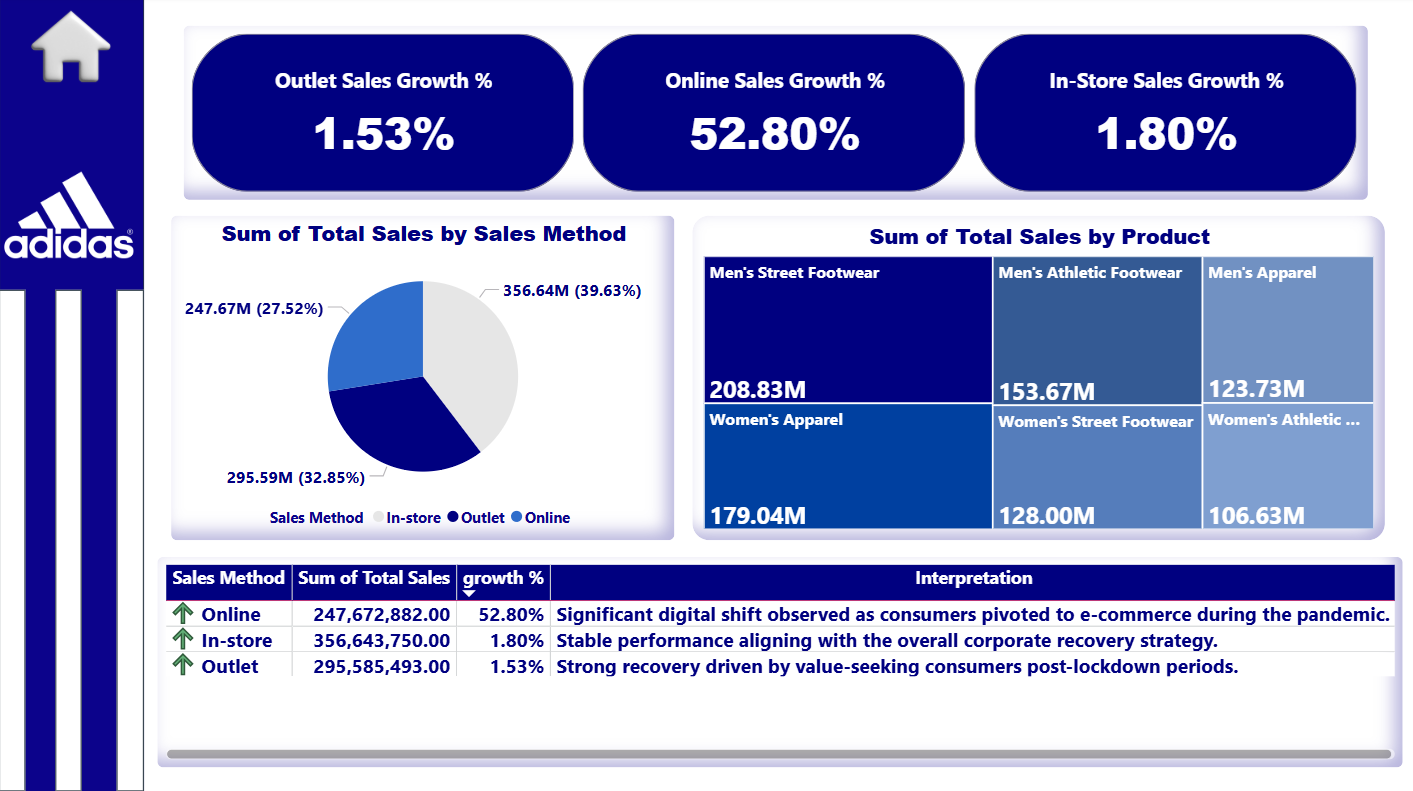

This screenshot's page, from the dashboard's own definition file:
{"tool":"powerbi","page":{"name":"Sales Methods Performance & Strategy","canvas":[1280,720],"ordinal":3},"visuals":[{"type":"pieChart","fields":{"Category":["Data Sales Adidas.Sales Method"],"Y":["Sum(Data Sales Adidas.Total Sales)"]},"box":[155.1,197.8,457.1,295.4],"z":0},{"type":"shape","box":[0,265.8,23.9,453.8],"z":0,"group":"g2"},{"type":"shape","box":[0,0,131.5,720.1],"z":1000},{"type":"shape","box":[50.5,265.8,23.9,453.8],"z":1000,"group":"g2"},{"type":"group","id":"g1","title":"Group 2","box":[0,0,131.2,719.6],"z":2000},{"type":"shape","box":[106.4,265.8,24.8,453.8],"z":2000,"group":"g2"},{"type":"tableEx","fields":{"Values":["Data Sales Adidas.Sales Method","Sum(Data Sales Adidas.Total Sales)","Data Sales Adidas.growth %","Data Sales Adidas.Interpretation"]},"box":[142.3,506.9,1128.4,192],"z":3000},{"type":"cardVisual","fields":{"Data":["Data Sales Adidas.Outlet Sales Growth %","Data Sales Adidas.Online Sales Growth %","Data Sales Adidas.In-Store Sales Growth %"]},"box":[166.1,25.5,1072.9,159.4],"z":4000},{"type":"treemap","fields":{"Group":["Data Sales Adidas.Product"],"Values":["Sum(Data Sales Adidas.Total Sales)"]},"box":[626.9,197.8,628.2,295.4],"z":5000},{"type":"group","id":"g2","title":"Group 1","box":[0,265.8,131.2,453.8],"z":5000,"group":"g1"},{"type":"image","box":[0,135.3,126.5,124.5],"z":6000,"group":"g1"},{"type":"image","box":[3.6,0,123.4,91.3],"z":7000,"group":"g1"}]}

Visuals, with their boxes in screenshot pixels (x1, y1, x2, y2), scaled from the page's 1280x720 canvas onto the 1413x791 screenshot:
pieChart - Data Sales Adidas.Sales Method x Sum(Data Sales Adidas.Total Sales): (171,217,676,542)
shape: (0,292,26,790)
shape: (0,0,145,790)
shape: (56,292,82,790)
"Group 2" group: (0,0,145,790)
shape: (117,292,145,790)
tableEx - Data Sales Adidas.Sales Method x Sum(Data Sales Adidas.Total Sales): (157,557,1403,768)
cardVisual - Data Sales Adidas.Outlet Sales Growth % x Data Sales Adidas.Online Sales Growth %: (183,28,1368,203)
treemap - Data Sales Adidas.Product x Sum(Data Sales Adidas.Total Sales): (692,217,1386,542)
"Group 1" group: (0,292,145,790)
image: (0,149,140,285)
image: (4,0,140,100)
